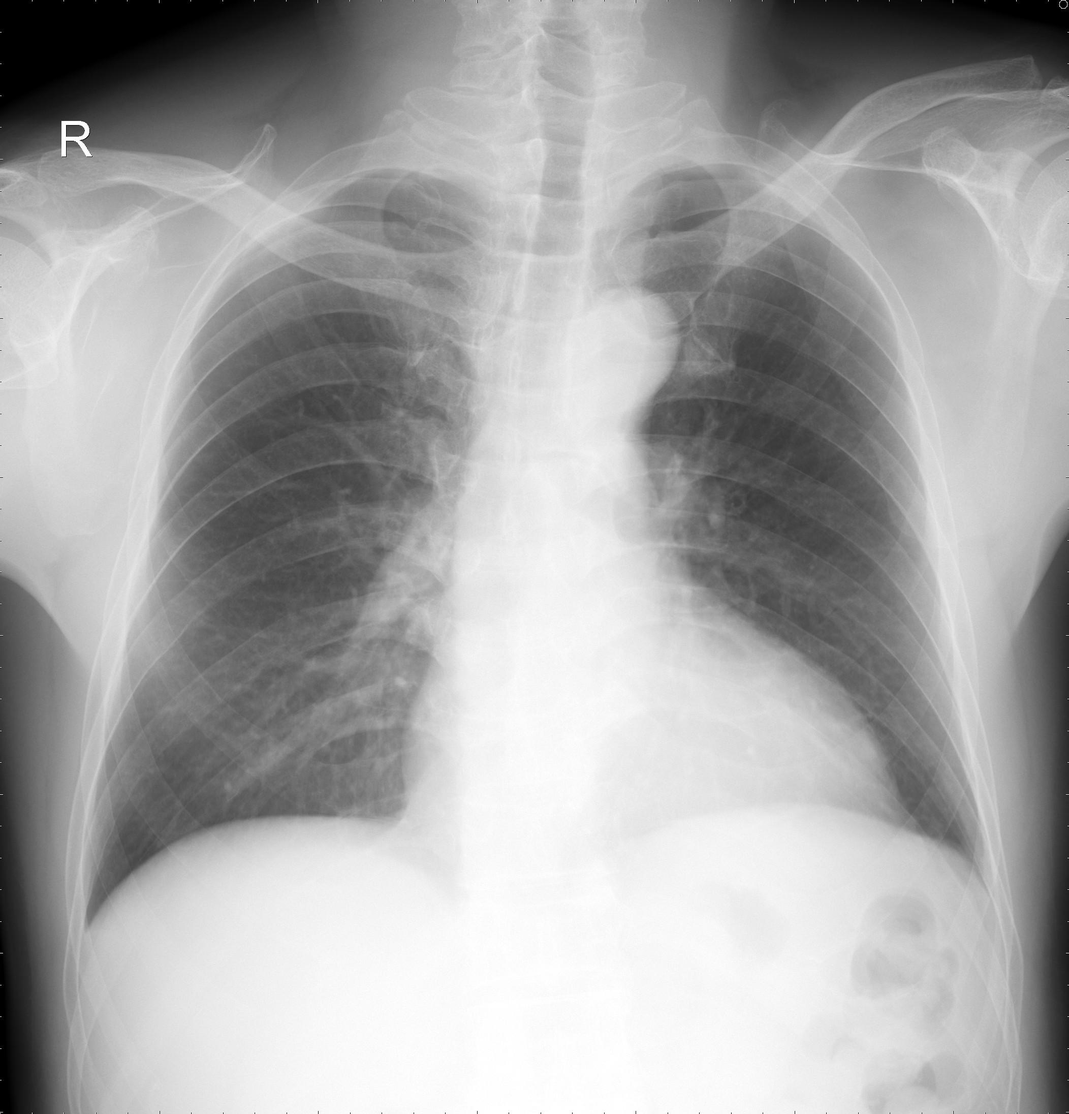Cardiomegaly: (393, 696, 899, 817)
